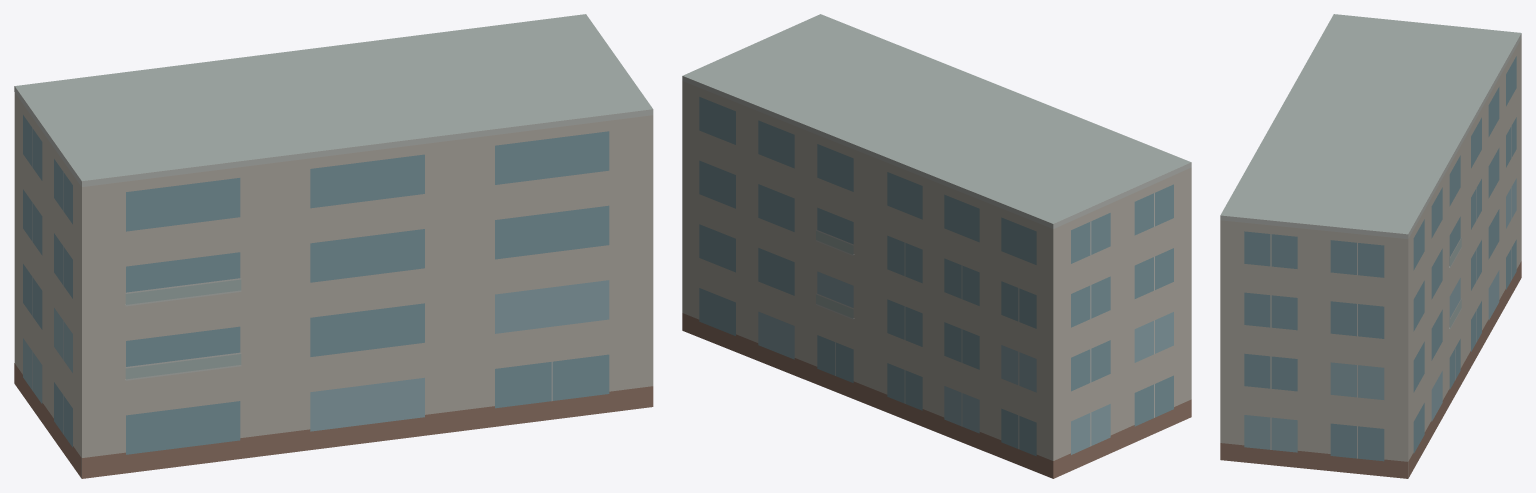
Rendered from residential-8420b472-affa-4dbe-a8c1-38c21088451e.glb.
3 renders of one model, left to right at view 1: azimuth 30°, elevation 25°; view 2: azimuth 150°, elevation 25°; view 3: azimuth 270°, elevation 25°, orthographic. The views are drawn at different scales.
Visible parts, largest first — view 1: residential-8420b472-affa-4dbe-a8c1-38c21088451e.tmp; view 2: residential-8420b472-affa-4dbe-a8c1-38c21088451e.tmp; view 3: residential-8420b472-affa-4dbe-a8c1-38c21088451e.tmp.
Part boxes in pixels (x1=…): residential-8420b472-affa-4dbe-a8c1-38c21088451e.tmp: x1=14, y1=14, x2=653, y2=478; residential-8420b472-affa-4dbe-a8c1-38c21088451e.tmp: x1=682, y1=14, x2=1191, y2=478; residential-8420b472-affa-4dbe-a8c1-38c21088451e.tmp: x1=1220, y1=14, x2=1521, y2=478.
Bounding box in the file's own units: 23.58 × 12.2 × 13.64.
